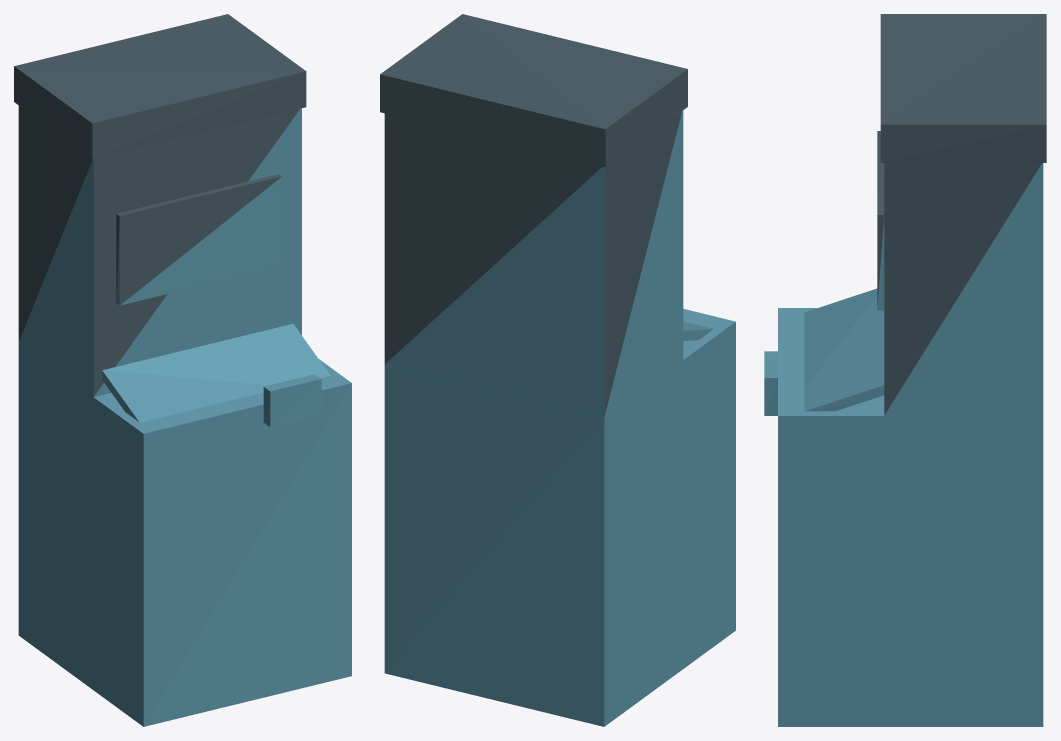
File: atm-machine-00.glb
3 views of the same model, side by side, from view 1: azimuth 30°, elevation 25°; view 2: azimuth 150°, elevation 25°; view 3: azimuth 270°, elevation 25° (orthographic). The views are drawn at different scales.
Parts seen in each view (by area): view 1: atm_machine_00; view 2: atm_machine_00; view 3: atm_machine_00.
Part boxes in pixels (x1,y1,x2,y2): atm_machine_00: (14,14,351,726); atm_machine_00: (380,14,735,726); atm_machine_00: (764,14,1046,726).
Bounding box in the file's own units: 0.7494 × 1.9 × 0.8079.
